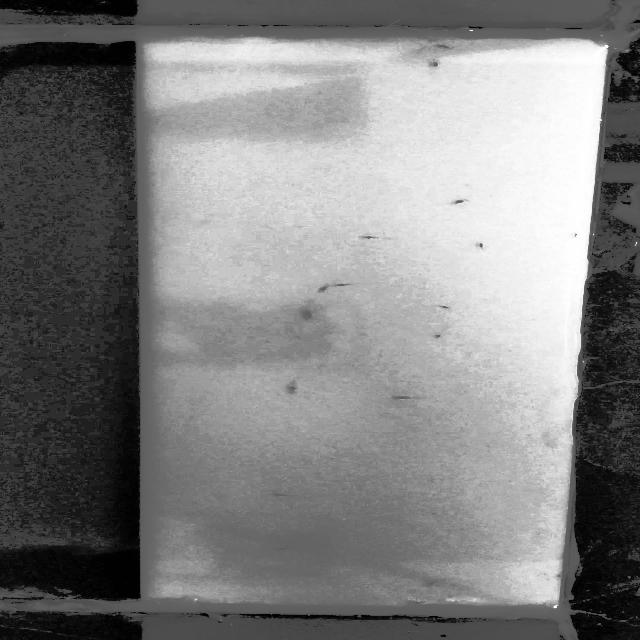shrimp: (443, 196, 482, 210), (353, 230, 395, 242), (432, 42, 465, 52), (390, 390, 414, 402), (314, 283, 335, 293), (274, 544, 300, 552), (331, 281, 365, 287), (407, 596, 427, 606), (284, 383, 306, 392), (423, 579, 442, 589), (302, 309, 318, 320), (272, 492, 294, 499), (428, 58, 443, 68), (474, 240, 488, 250), (438, 306, 455, 312), (434, 333, 447, 340)
